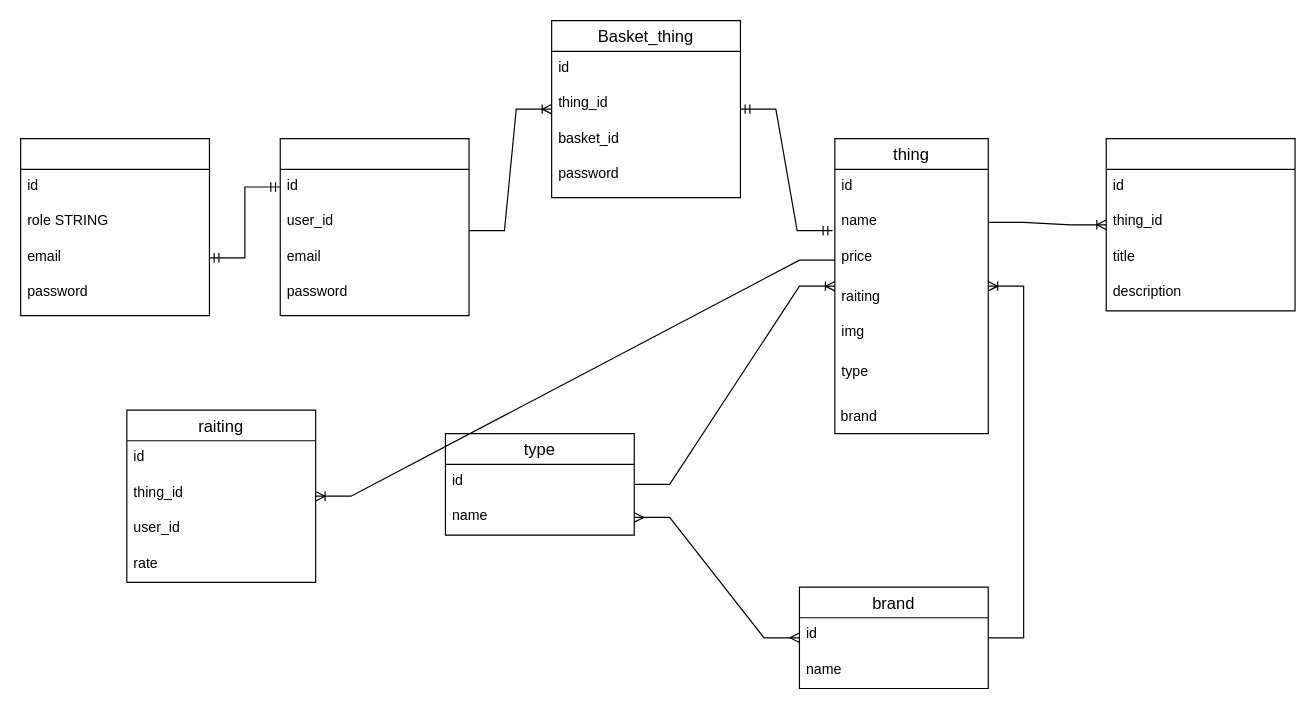
The diagram is 1316 pixels wide and 713 high, and some of its shapes have lost their labels. Each missing label, with the box of its shape:
Basket: (279, 137, 469, 316)
thing_info: (1105, 137, 1295, 311)
User: (19, 137, 209, 316)
